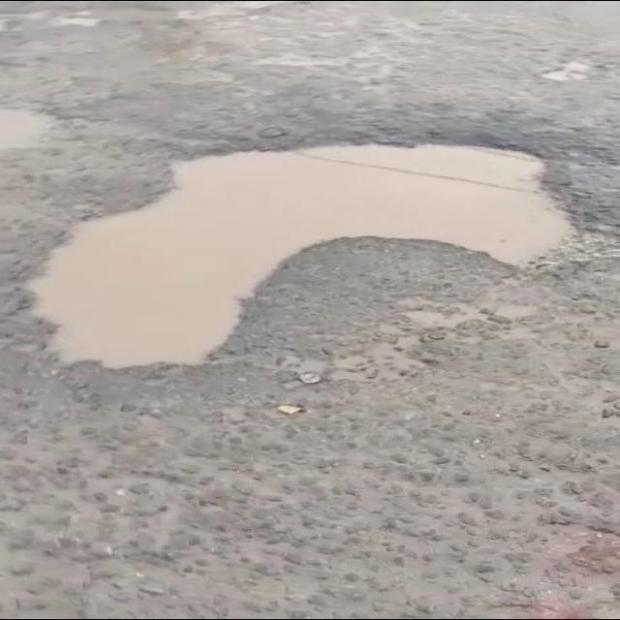lubang: (30, 145, 572, 368), (0, 107, 72, 152), (0, 7, 104, 36), (542, 60, 619, 82)
